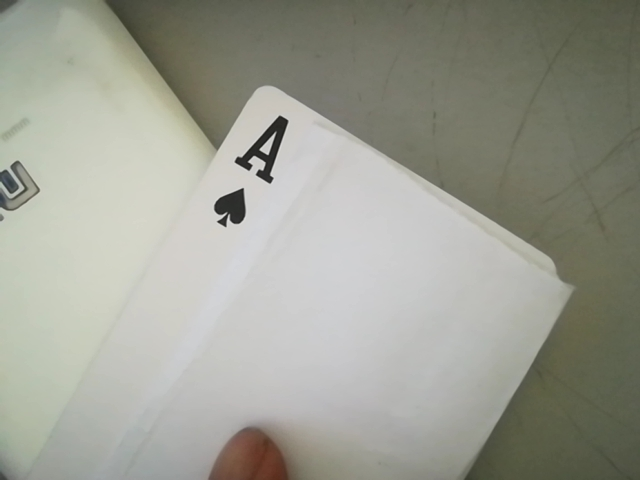ht a: (203, 99, 313, 236)
